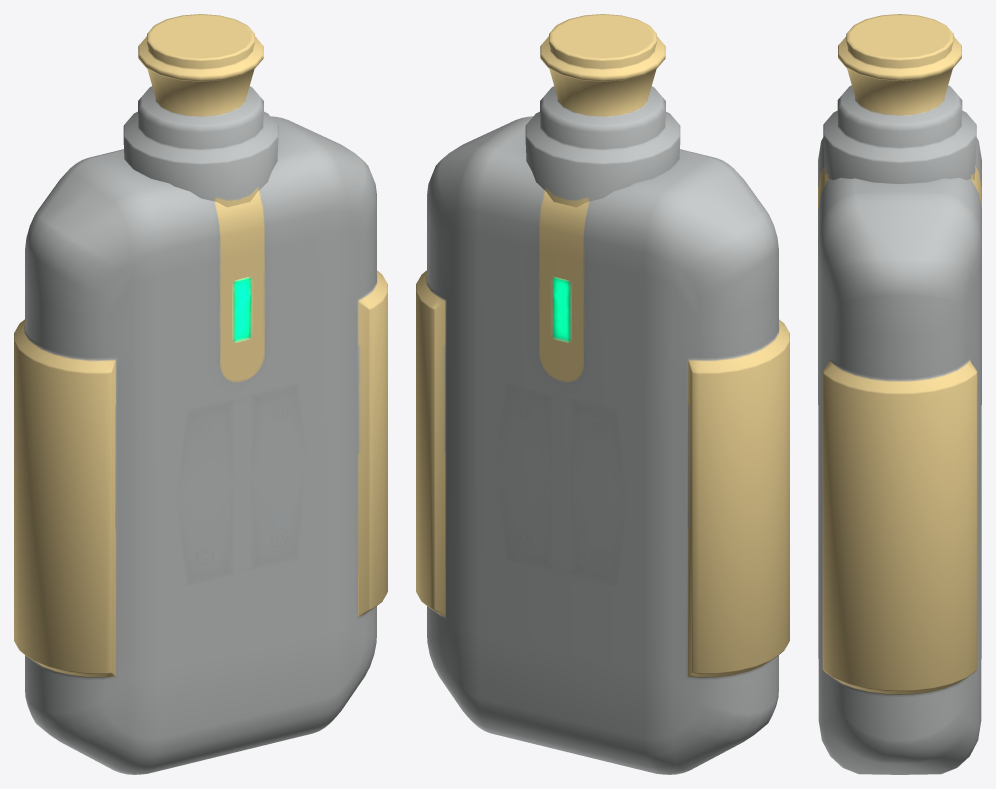
File: BarBottle02_4.FBX
3 views of the same model, side by side, from view 1: azimuth 30°, elevation 25°; view 2: azimuth 150°, elevation 25°; view 3: azimuth 270°, elevation 25° (orthographic).
Parts seen in each view (by area): view 1: BarBottle02_4; view 2: BarBottle02_4; view 3: BarBottle02_4.
Boxes of the visible parts, x1,y1,x2,y2 form: BarBottle02_4: (14,14,387,774); BarBottle02_4: (416,14,789,774); BarBottle02_4: (818,14,981,774).
Size of what is drawn, in the model's own units: 0.1404 by 0.2685 by 0.0574.
